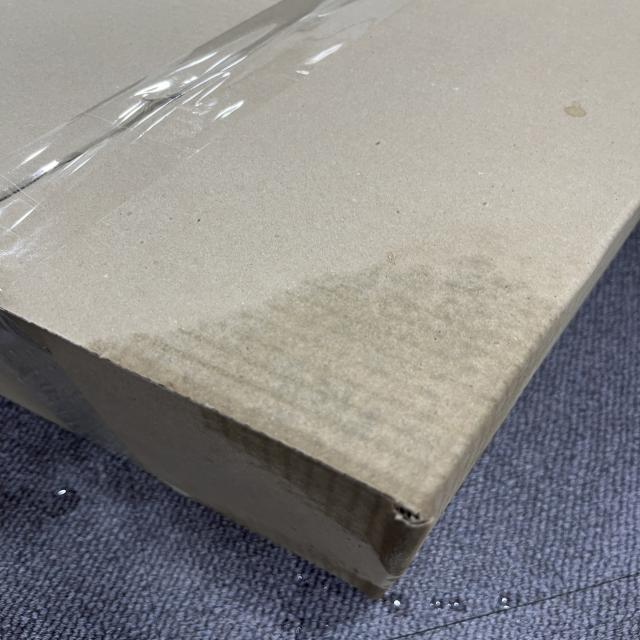wet: (121, 235, 593, 578)
